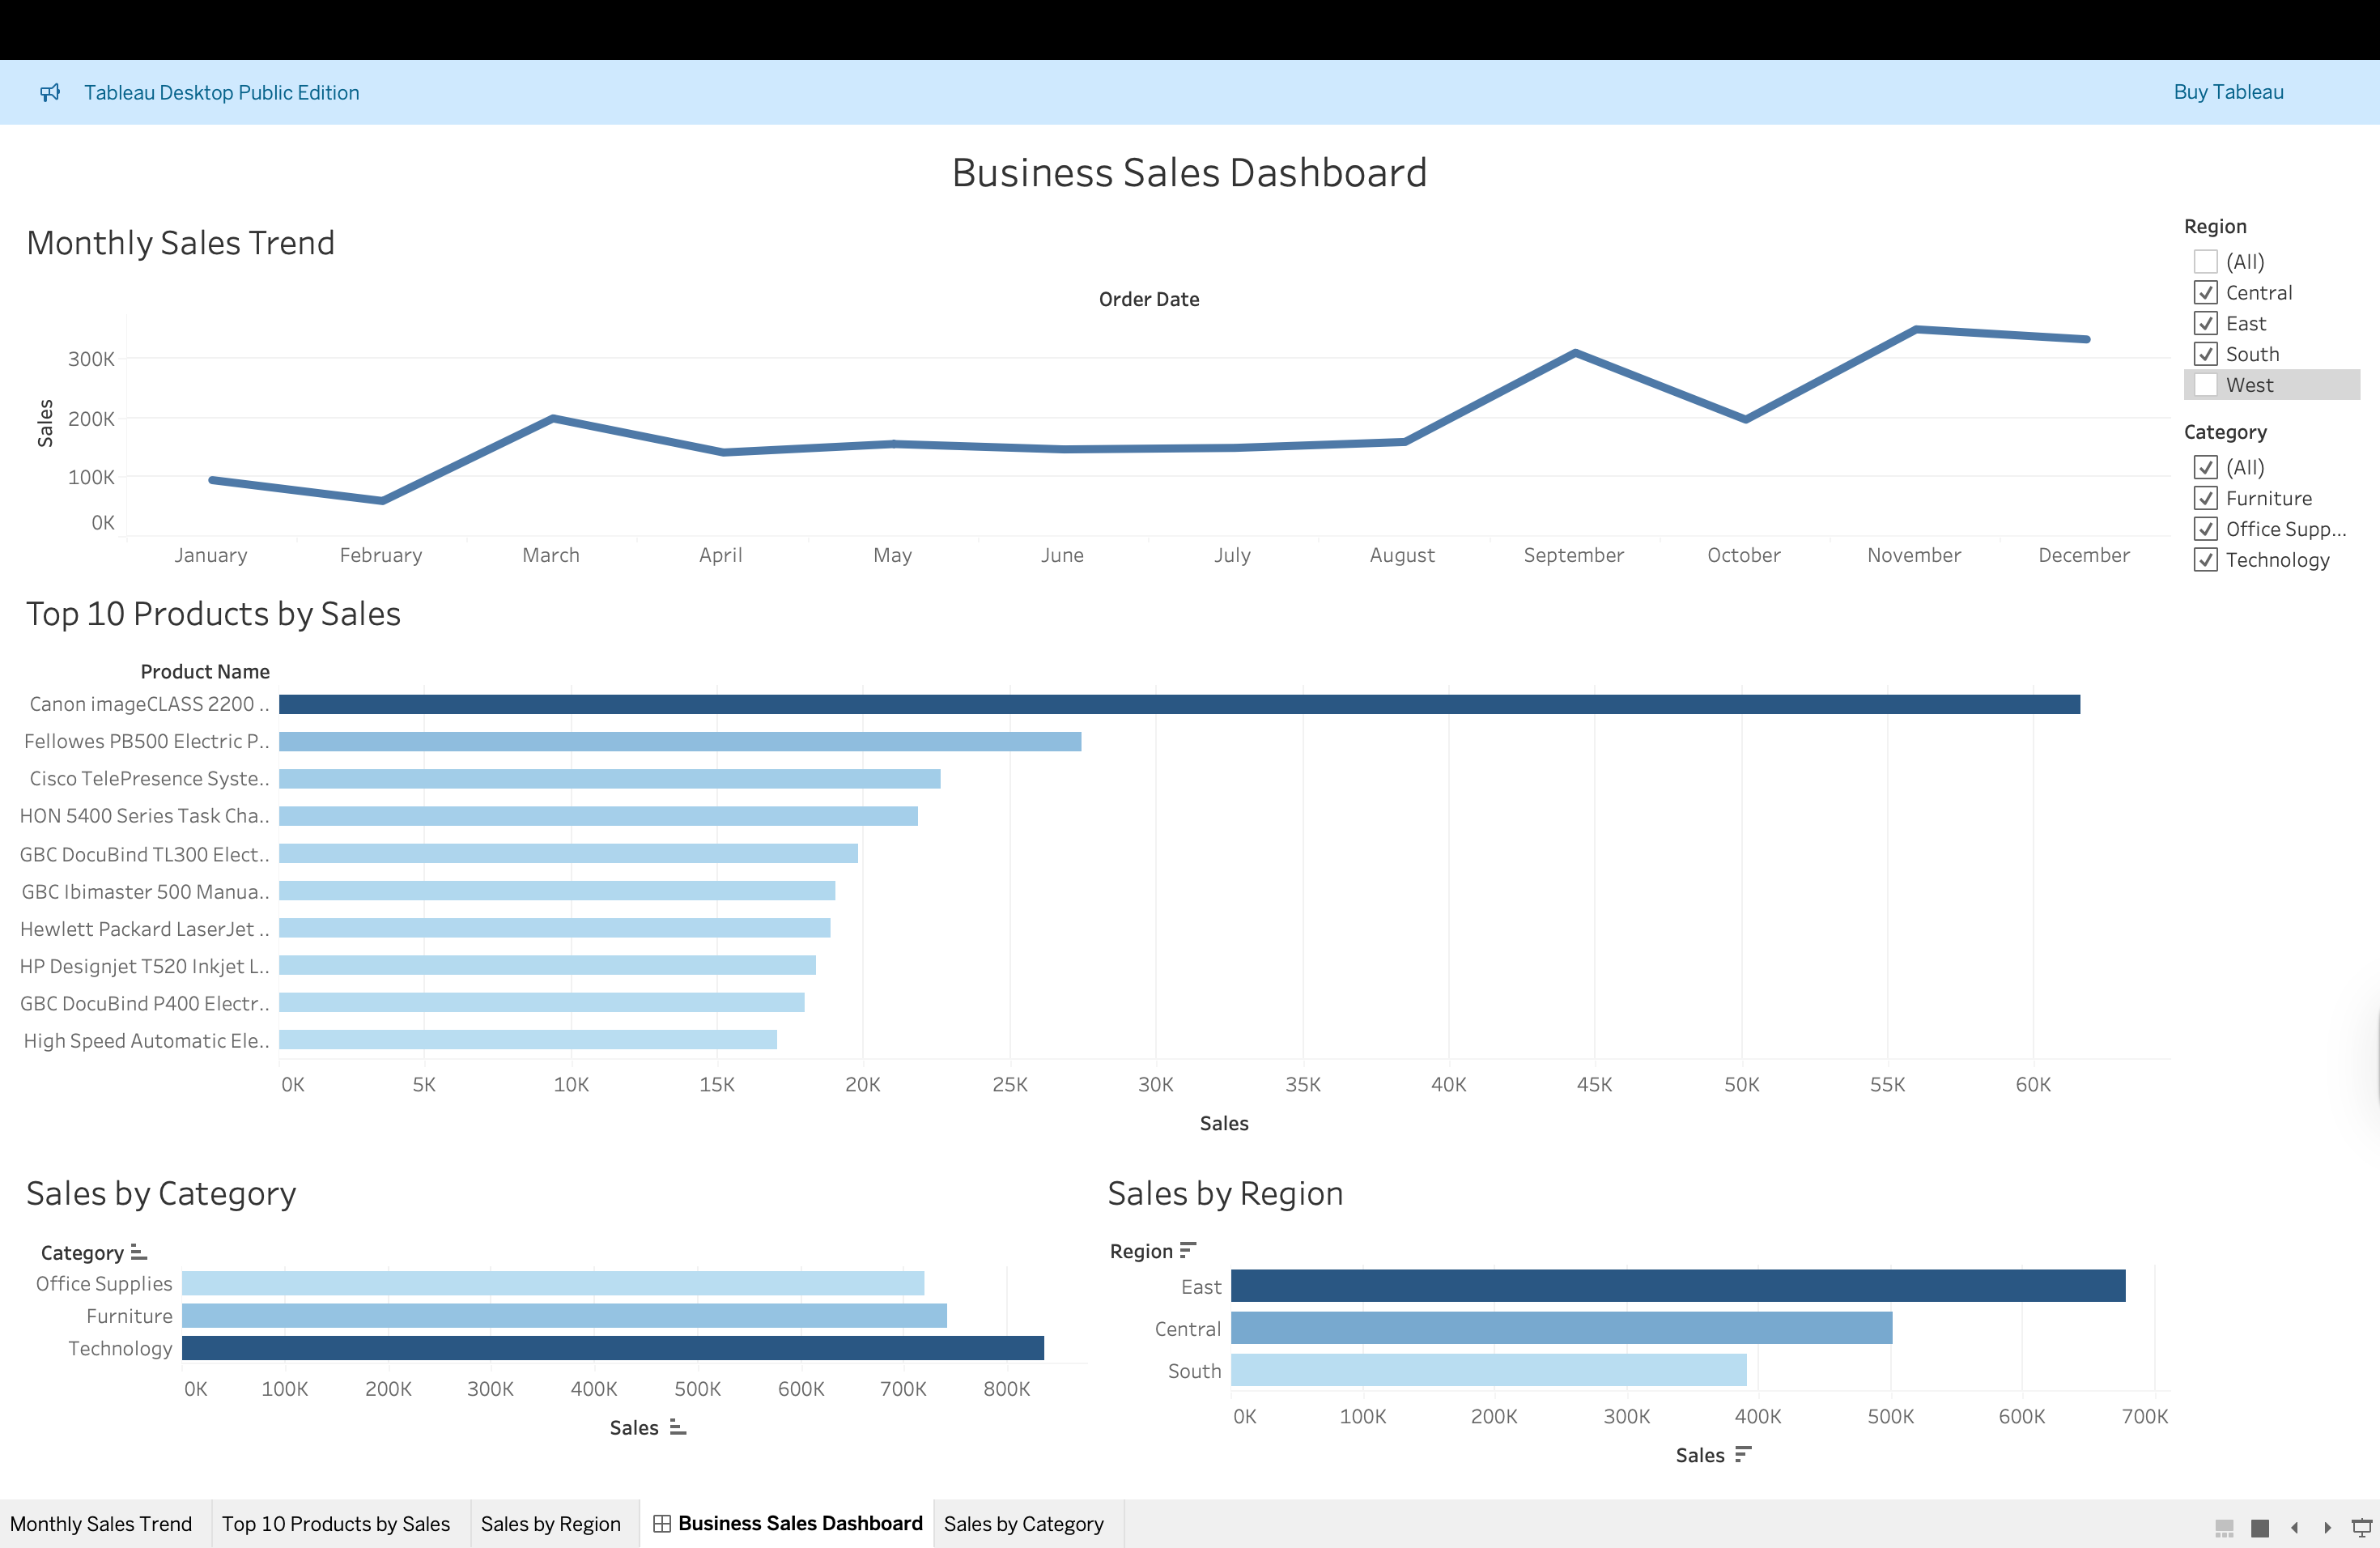

What the dashboard file says about the page in this screenshot:
{"tool":"tableau","page":{"name":"Business Sales Dashboard","canvas":[1000,1000],"units":"permille","ordinal":0},"visuals":[{"type":"title","box":[10.5,11.7,978.9,52.7]},{"type":"worksheet","title":"Monthly Sales Trend","mark":"Automatic","rows":["Sales"],"cols":["Order Date"],"box":[10.5,64.4,825,267.9]},{"type":"filter","title":"Sales by Region","param":"[federated.1ldnj430v75o6j10bnwn818czmzn].[none:Region:nk]","box":[835.5,64.4,154,185.9]},{"type":"filter","title":"Sales by Category","param":"[federated.1ldnj430v75o6j10bnwn818czmzn].[none:Category:nk]","box":[835.5,250.4,154,158.1]},{"type":"worksheet","title":"Top 10 Products by Sales","mark":"Automatic","rows":["Product Name"],"cols":["Sales"],"box":[10.5,332.3,825,417.3]},{"type":"worksheet","title":"Sales by Category","mark":"Automatic","rows":["Category"],"cols":["Sales"],"box":[10.5,749.6,412.3,238.7]},{"type":"worksheet","title":"Sales by Region","mark":"Bar","rows":["Region"],"cols":["Sales"],"box":[422.8,749.6,412.7,238.7]}]}

Visuals, with their boxes on the dashboard's canvas, which has no fixed pixel size, in thousandths of its width and height (x1, y1, x2, y2). These are canvas units, not pixel positions in the 2380x1548 screenshot, which may show the page scaled, cropped or inside an application window:
title: x1=10 y1=12 x2=989 y2=64
"Monthly Sales Trend" worksheet: x1=10 y1=64 x2=836 y2=332
"Sales by Region" filter: x1=836 y1=64 x2=990 y2=250
"Sales by Category" filter: x1=836 y1=250 x2=990 y2=408
"Top 10 Products by Sales" worksheet: x1=10 y1=332 x2=836 y2=750
"Sales by Category" worksheet: x1=10 y1=750 x2=423 y2=988
"Sales by Region" worksheet (Bar marks): x1=423 y1=750 x2=836 y2=988
